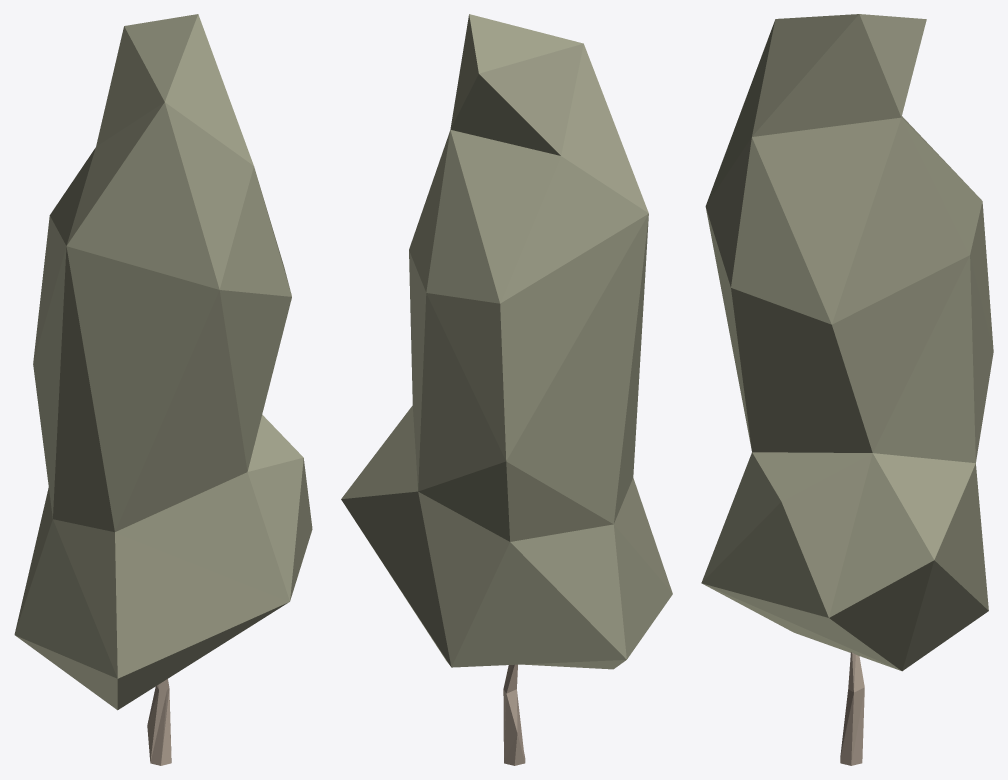
The model's file is CasuarinaEquisetifolia.glb.
3 renders of one model, left to right at view 1: azimuth 30°, elevation 25°; view 2: azimuth 150°, elevation 25°; view 3: azimuth 270°, elevation 25°, orthographic. The views are drawn at different scales.
Visible parts, largest first — view 1: Crown, Trunk; view 2: Crown, Trunk; view 3: Crown, Trunk.
Part boxes in pixels (x1,y1,x2,y2): Crown: [14, 14, 312, 710]; Trunk: [147, 679, 171, 765]; Crown: [341, 14, 672, 669]; Trunk: [503, 664, 525, 765]; Crown: [701, 14, 993, 671]; Trunk: [840, 652, 864, 765].
Bounding box in the file's own units: 7.65 × 19.87 × 6.86.
